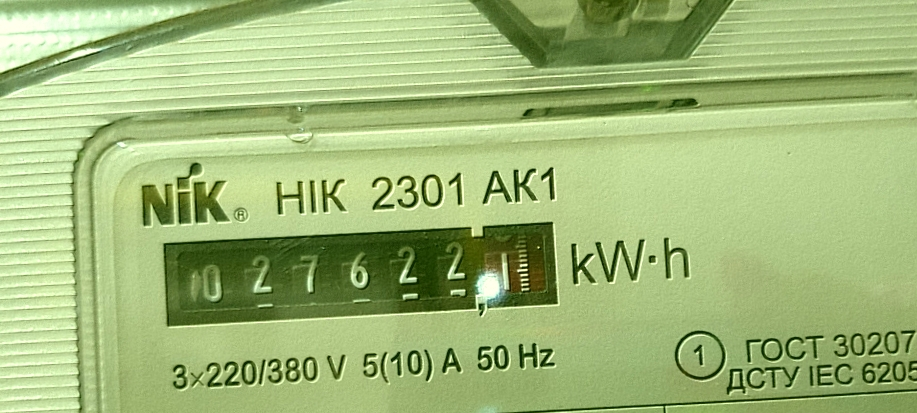0: (200, 260, 226, 304)
1: (497, 248, 514, 292)
2: (394, 243, 421, 286), (250, 252, 275, 296), (444, 239, 468, 281)
6: (347, 249, 371, 290)
7: (298, 252, 323, 296)
screen: (151, 211, 572, 333)
